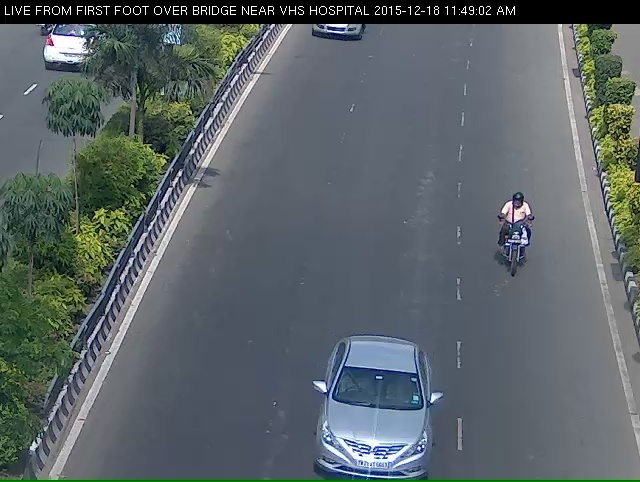Car: (313, 351, 437, 476)
Person: (487, 196, 542, 291)
